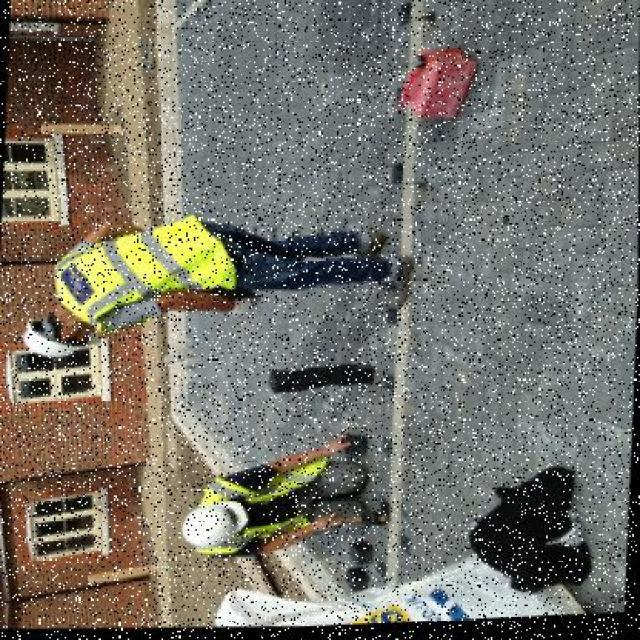helmet: (175, 485, 259, 563), (20, 309, 96, 364)
vest: (69, 200, 249, 346)
